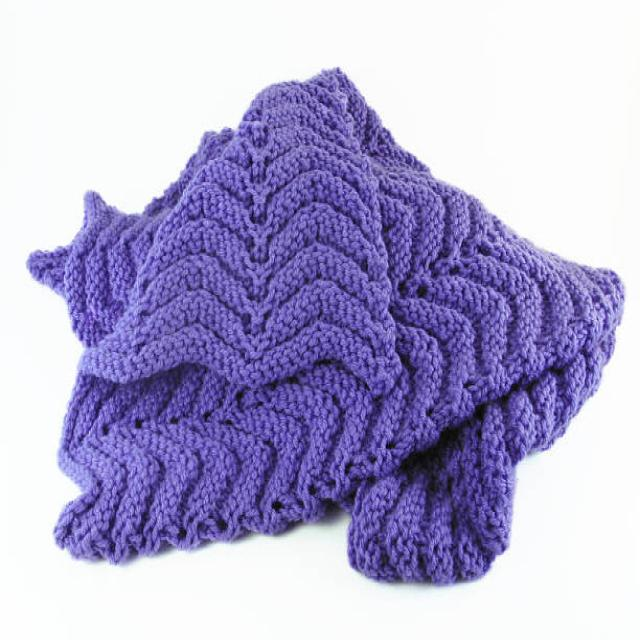blanket: (29, 70, 624, 583)
